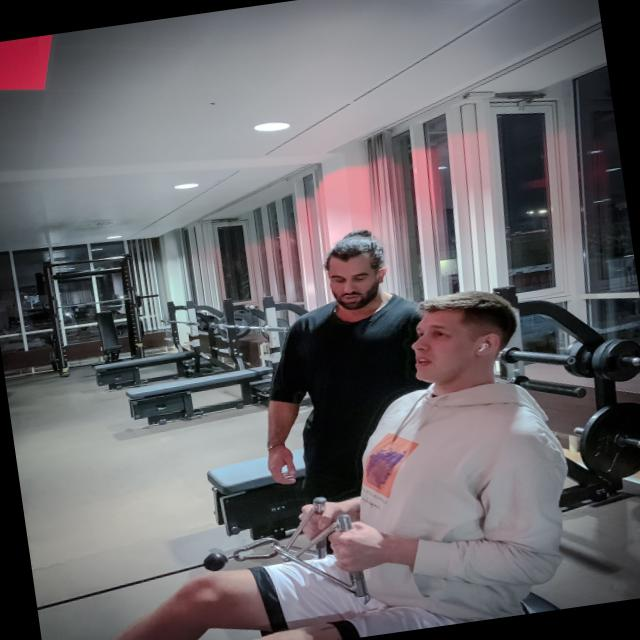JeremiasDiaz: (402, 284, 528, 392)
face: (319, 226, 394, 315)
